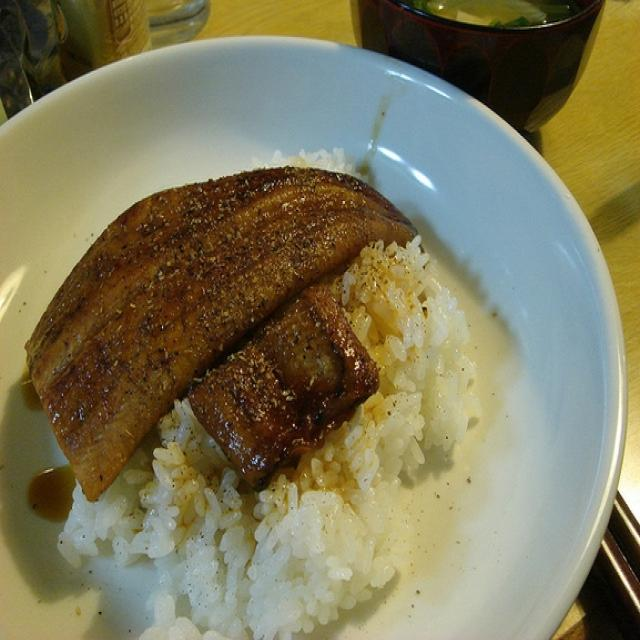熟制海鲜: (11, 28, 598, 618)
